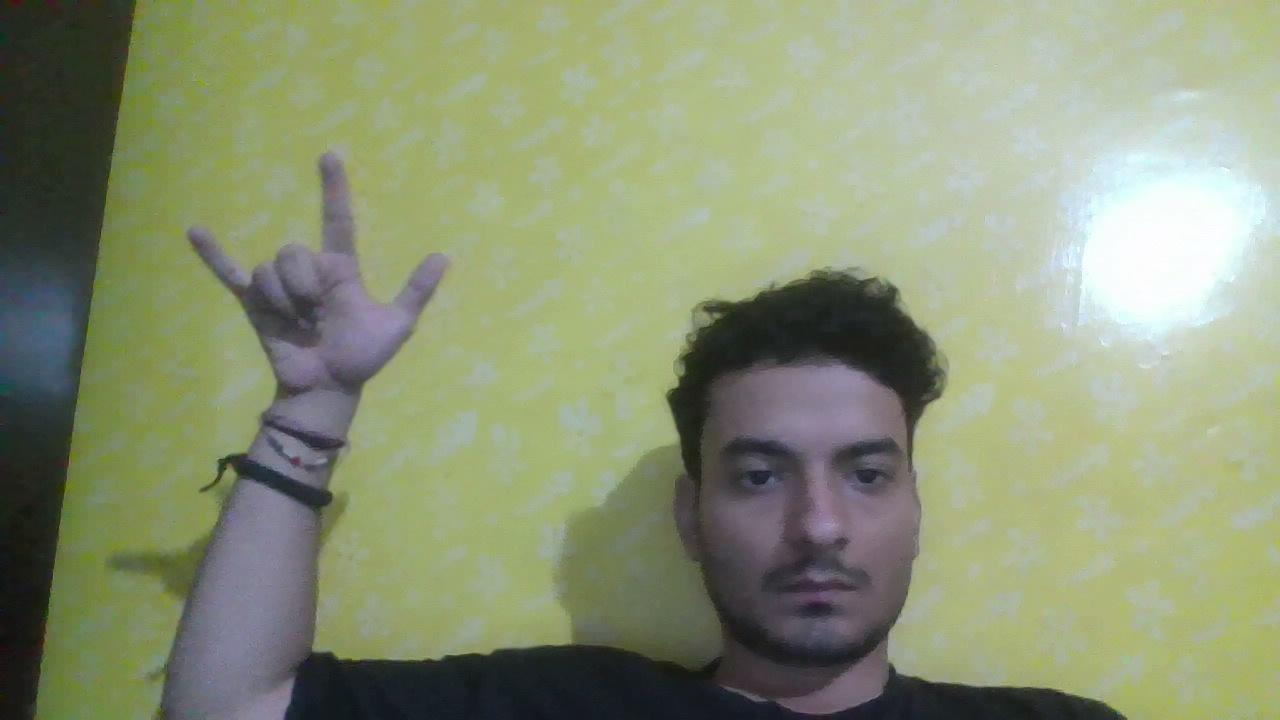Loveyou: (154, 149, 519, 425)
